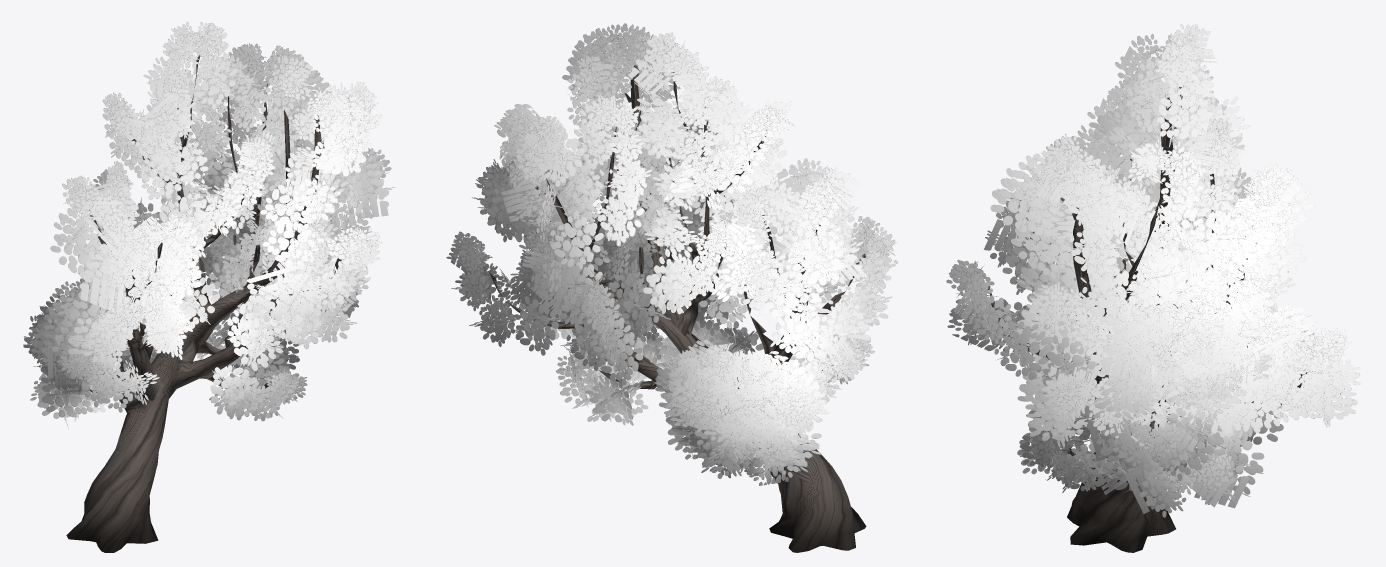
File: TwistedTree_1.glb
3 views of the same model, side by side, from view 1: azimuth 30°, elevation 25°; view 2: azimuth 150°, elevation 25°; view 3: azimuth 270°, elevation 25° (orthographic). The views are drawn at different scales.
Parts seen in each view (by area): view 1: TwistedTree_1; view 2: TwistedTree_1; view 3: TwistedTree_1.
Part boxes in pixels (box(x1,y1,x2,y2)): TwistedTree_1: box(23, 21, 394, 552); TwistedTree_1: box(446, 23, 898, 552); TwistedTree_1: box(946, 24, 1360, 552).
Size of the model in its own units: 13.37 by 16.73 by 11.55.
2 materials, 2 textured.
